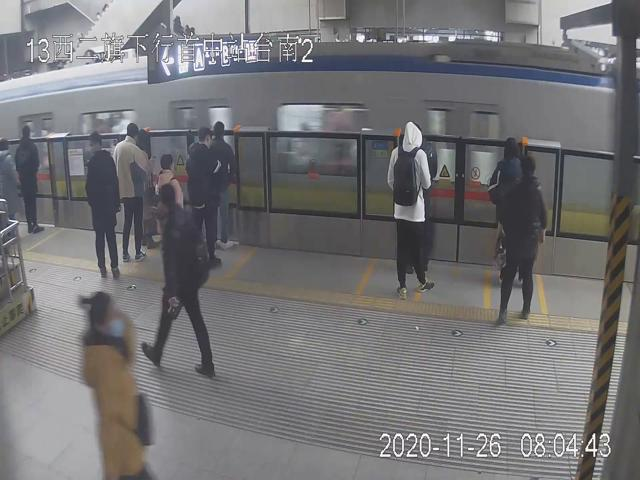person: (142, 183, 217, 377), (387, 120, 434, 302), (496, 155, 546, 323), (84, 132, 122, 278), (185, 125, 223, 267), (114, 123, 150, 262), (209, 120, 236, 249), (15, 124, 44, 234)
